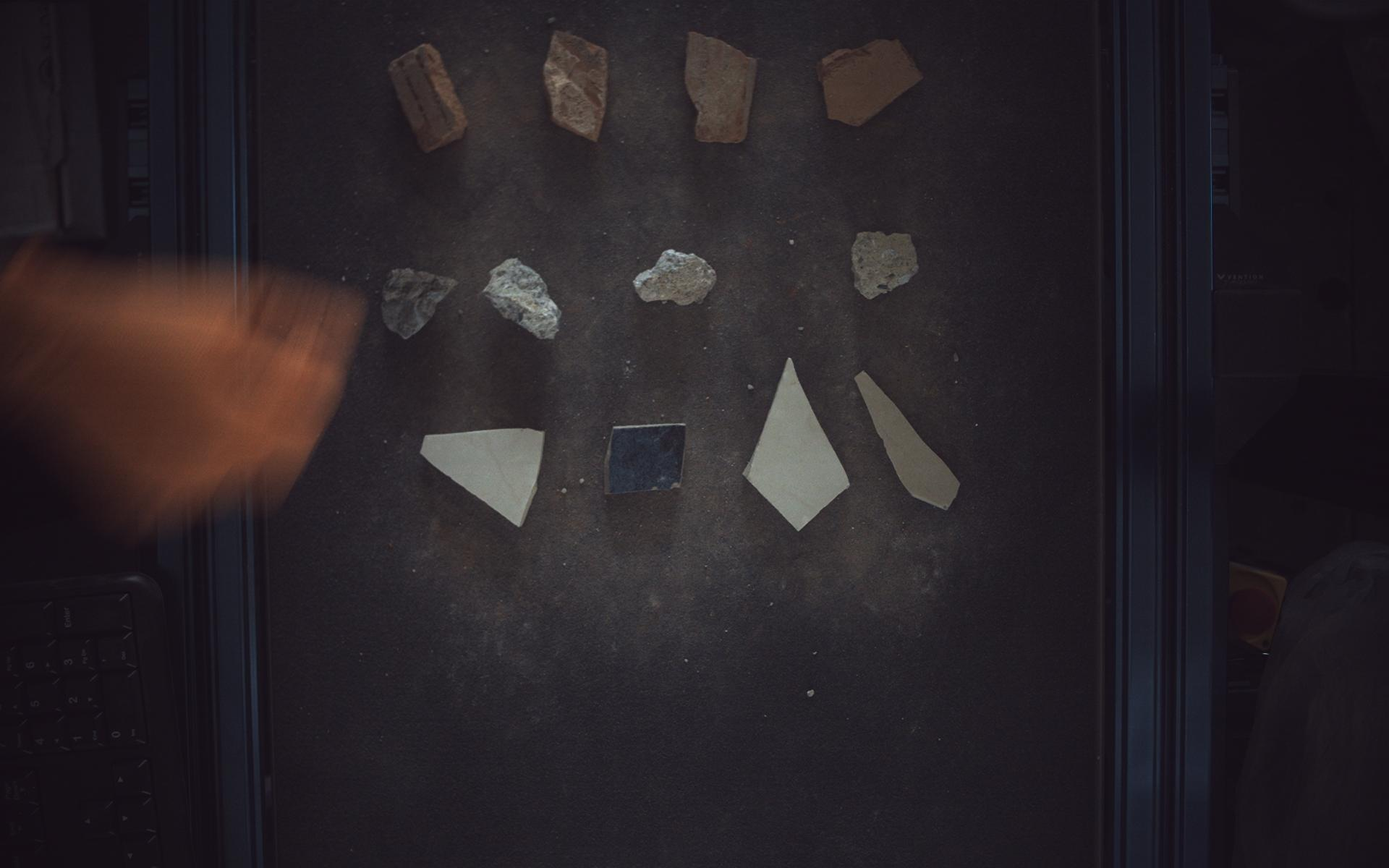brick: (817, 38, 924, 125), (388, 42, 468, 151), (686, 30, 758, 142), (543, 29, 608, 140)
concrete: (483, 258, 561, 339), (383, 268, 457, 339), (634, 249, 718, 305), (853, 231, 919, 299)
tile: (744, 357, 851, 530), (856, 372, 962, 510), (420, 428, 545, 527), (606, 424, 687, 495)
